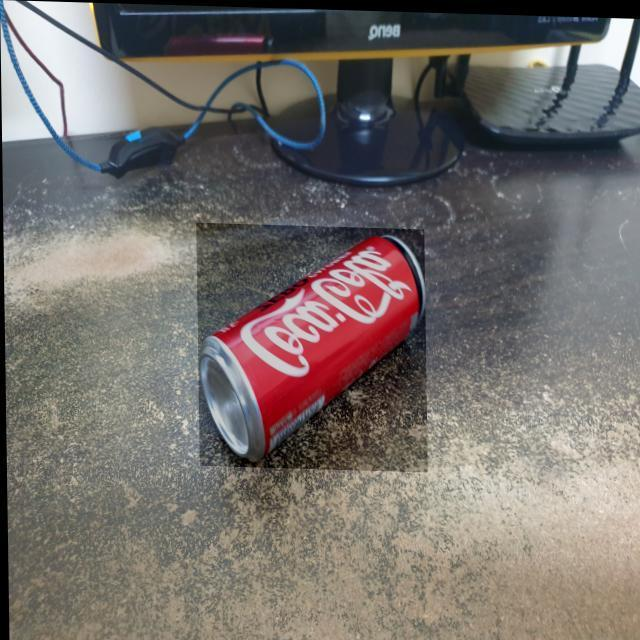trash: (183, 225, 434, 470)
